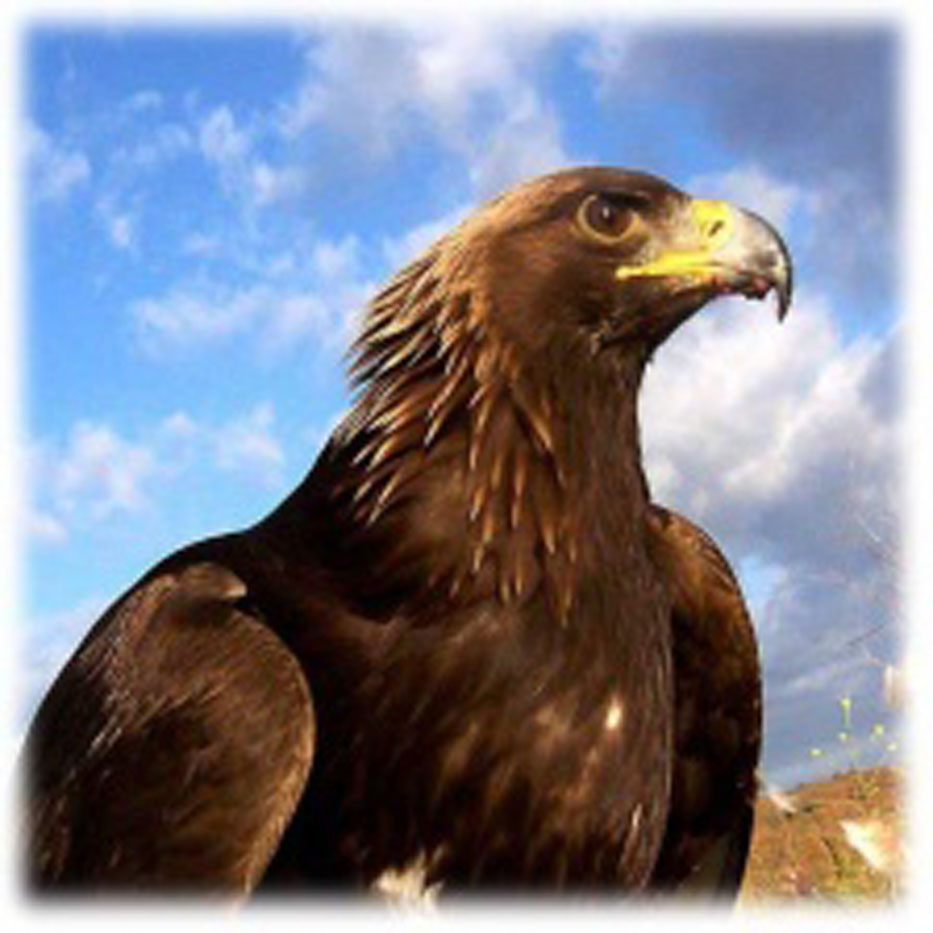Pengoyak Daging: (688, 188, 824, 345)
